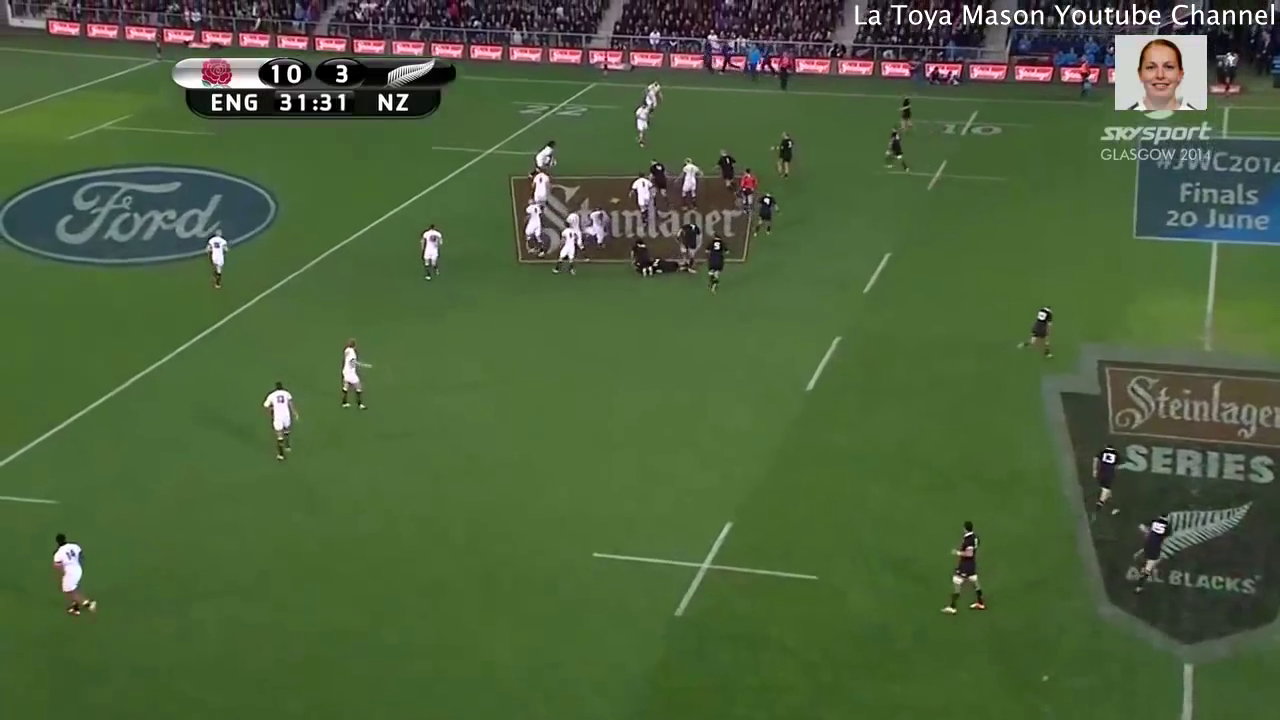10_metre: (582, 516, 824, 628), (881, 156, 1013, 192), (905, 108, 1035, 143)
player: (940, 513, 994, 618), (49, 529, 102, 621), (259, 375, 303, 466), (1087, 439, 1125, 530), (334, 333, 377, 412), (1130, 506, 1169, 586), (1013, 300, 1056, 360), (201, 226, 233, 290), (417, 224, 449, 283), (765, 130, 801, 180), (550, 220, 580, 280), (626, 236, 666, 279), (672, 219, 700, 276), (518, 202, 549, 253), (752, 188, 782, 240), (703, 231, 727, 296), (709, 147, 742, 194), (883, 126, 912, 177), (527, 136, 564, 172), (628, 171, 656, 217), (674, 155, 700, 204), (735, 166, 759, 214), (561, 207, 589, 248), (641, 77, 667, 116), (644, 156, 669, 196), (585, 208, 611, 246), (895, 94, 917, 131), (529, 167, 550, 204), (633, 101, 649, 146)
